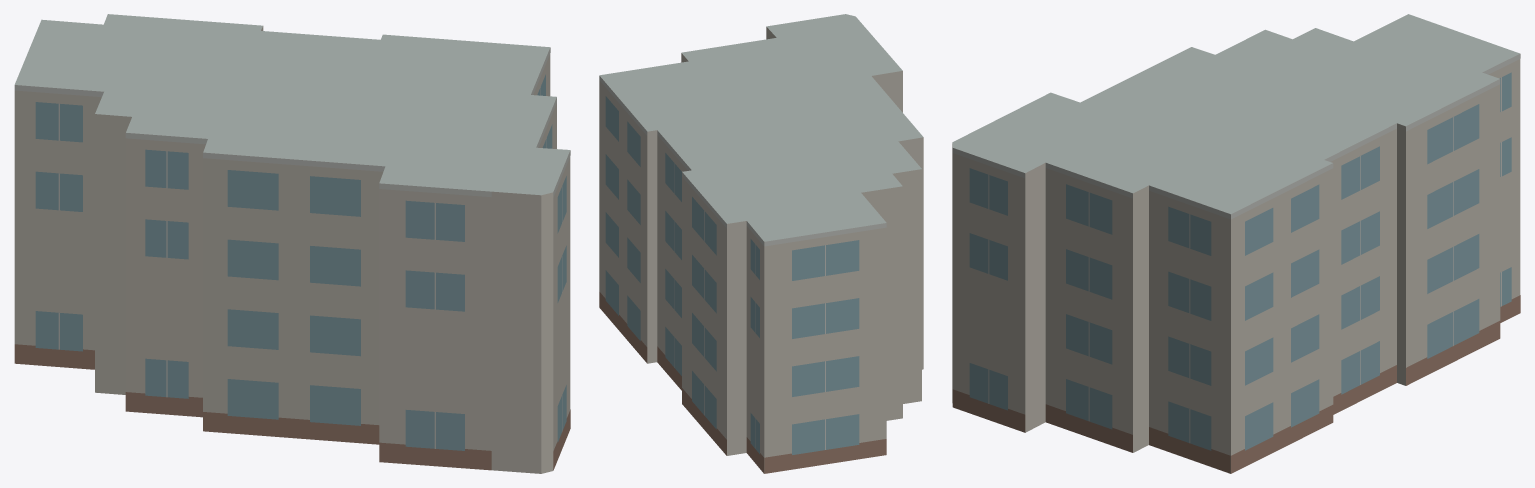
Rendered from survey-upis-32956195.glb.
3 renders of one model, left to right at view 1: azimuth 30°, elevation 25°; view 2: azimuth 150°, elevation 25°; view 3: azimuth 270°, elevation 25°, orthographic. The views are drawn at different scales.
Visible parts, largest first — view 1: survey-upis-32956195.tmp; view 2: survey-upis-32956195.tmp; view 3: survey-upis-32956195.tmp.
Part boxes in pixels (x1,y1,x2,y2): survey-upis-32956195.tmp: (14,14,570,473); survey-upis-32956195.tmp: (599,14,923,473); survey-upis-32956195.tmp: (952,14,1520,473).
Size of the model in its own units: 20.08 by 12.13 by 24.05.
